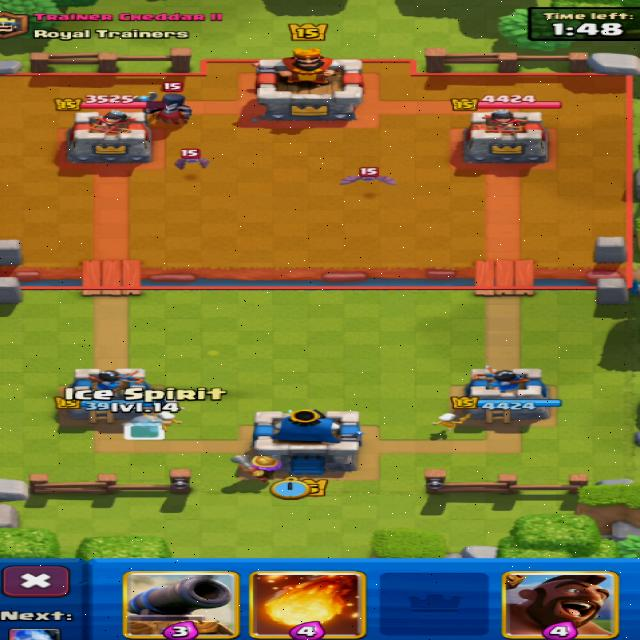Enemy-Bat: (341, 167, 395, 185), (174, 150, 209, 168)
Enemy-KingTower: (254, 49, 363, 120)
Enemy-NightWitch: (143, 93, 190, 124), (134, 93, 157, 101)
Enemy-PrincessTower: (463, 110, 548, 163), (67, 110, 151, 162)
Player-KingTower: (256, 410, 363, 474)
Player-Musketeer: (230, 455, 280, 482)
Player-PrincessTower: (453, 366, 561, 426), (55, 369, 165, 426)
Player-Skeleton: (432, 413, 470, 431), (147, 411, 181, 430)
